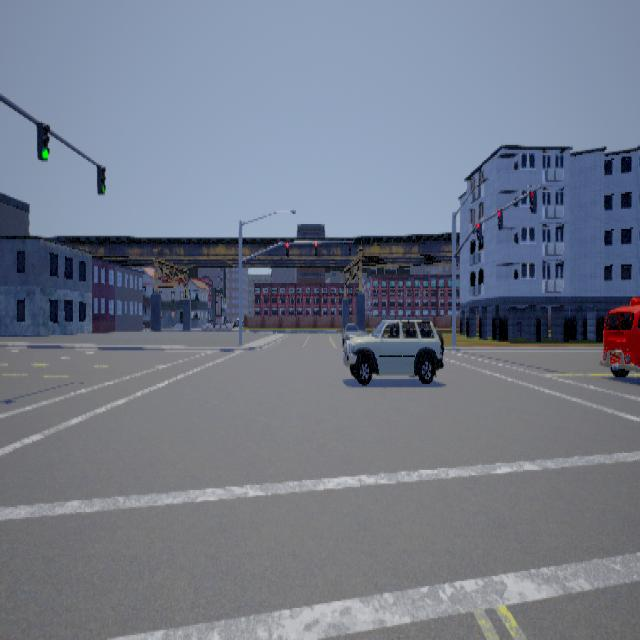green_light: (38, 120, 51, 160), (98, 163, 107, 194)
red_light: (530, 189, 538, 212), (498, 207, 504, 229), (477, 221, 483, 239), (287, 241, 290, 256), (316, 241, 319, 254), (350, 241, 352, 254)
vehicle: (343, 313, 445, 384), (600, 296, 640, 376)
